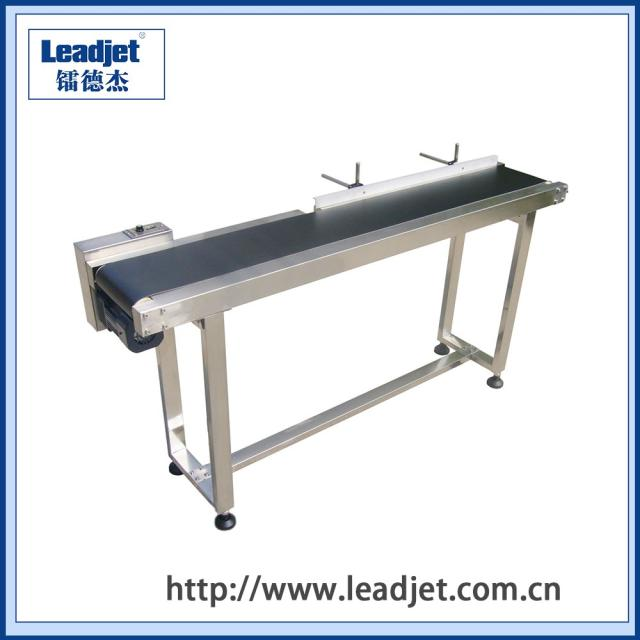conveyor: (36, 90, 586, 555)
